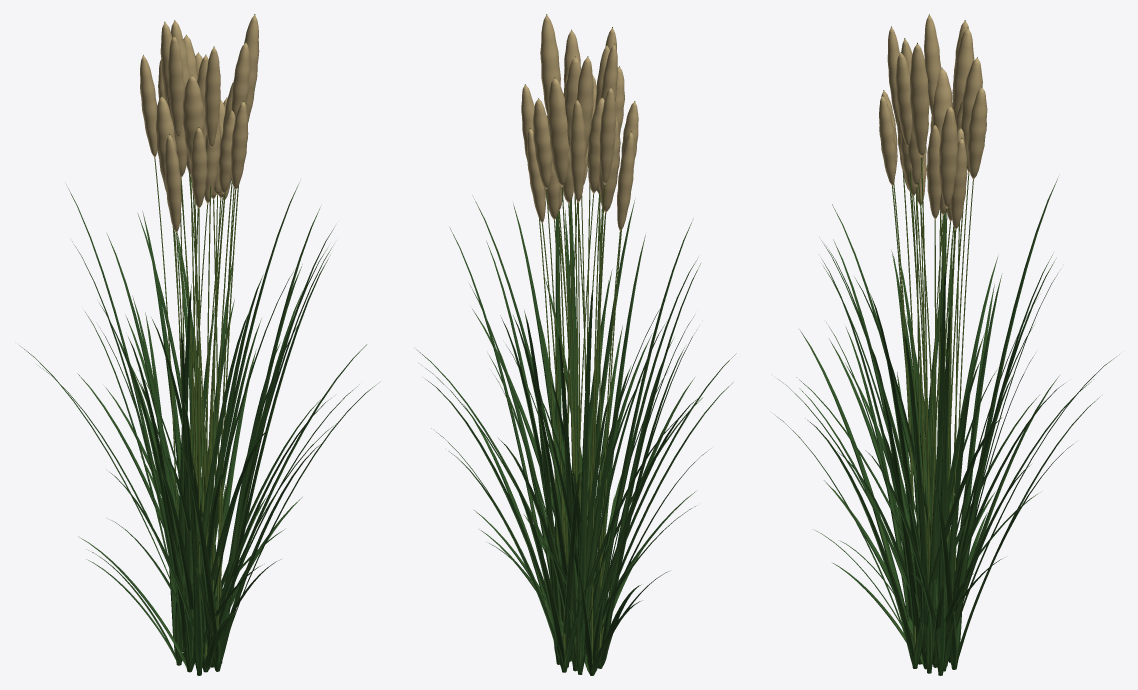
File: plumegrassb.glb
3 views of the same model, side by side, from view 1: azimuth 30°, elevation 25°; view 2: azimuth 150°, elevation 25°; view 3: azimuth 270°, elevation 25° (orthographic).
Parts seen in each view (by area): view 1: Foliage, SeedHeads, Stems; view 2: Foliage, SeedHeads, Stems; view 3: Foliage, SeedHeads, Stems.
Part boxes in pixels (left/top/right/bottom): Foliage: left=19, top=183, right=379, bottom=675; SeedHeads: left=140, top=15, right=259, bottom=232; Stems: left=143, top=14, right=255, bottom=658; Foliage: left=416, top=195, right=736, bottom=675; SeedHeads: left=521, top=15, right=638, bottom=231; Stems: left=525, top=14, right=635, bottom=655; Foliage: left=774, top=177, right=1119, bottom=675; SeedHeads: left=879, top=15, right=987, bottom=229; Stems: left=882, top=14, right=982, bottom=649.
Bounding box in the file's own units: 0.5525 × 1.15 × 0.576.
Materials: 3 (1 with a texture image).
